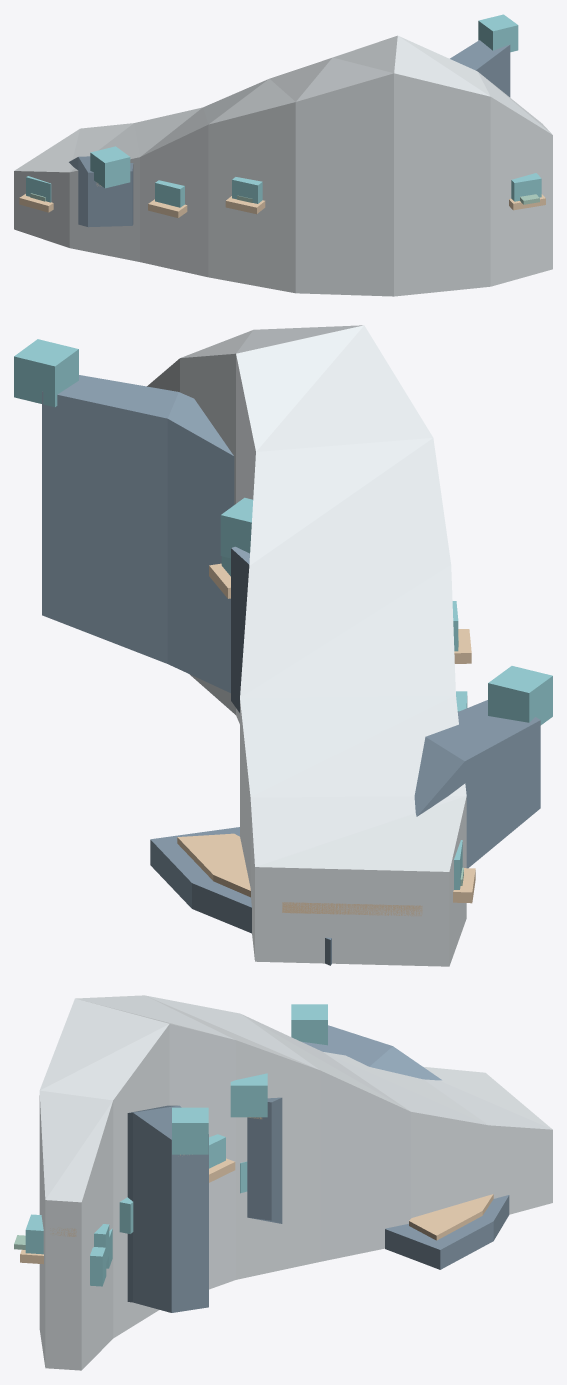
3 views of the same model, one above another, from view 1: azimuth 30°, elevation 25°; view 2: azimuth 150°, elevation 25°; view 3: azimuth 270°, elevation 25° (orthographic). The views are drawn at different scales.
Visible parts, largest first — view 1: ASYMMETRIC TERRAIN CITY; view 2: ASYMMETRIC TERRAIN CITY; view 3: ASYMMETRIC TERRAIN CITY.
Boxes of the visible parts, box(x1,y1,x2,y2) form: ASYMMETRIC TERRAIN CITY: box(14, 14, 552, 296); ASYMMETRIC TERRAIN CITY: box(14, 325, 552, 966); ASYMMETRIC TERRAIN CITY: box(14, 995, 552, 1370).
Bounding box in the file's own units: 302 × 168 × 293.
